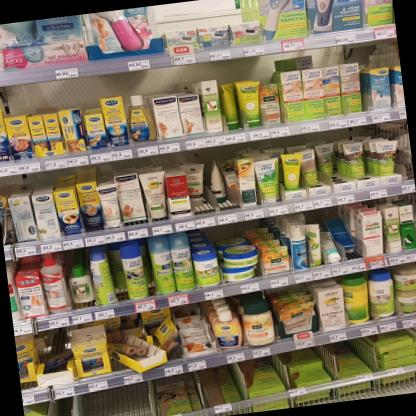empty_space: (76, 382, 152, 416), (187, 176, 214, 218), (212, 175, 237, 210)
